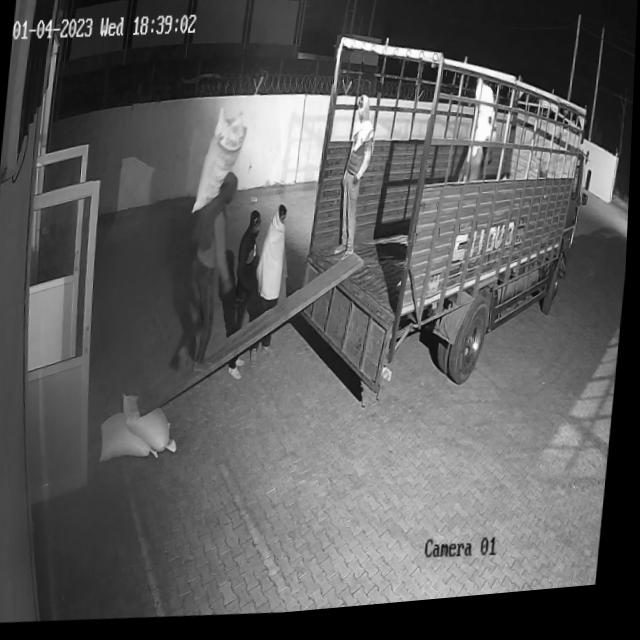sack: (193, 107, 250, 221), (121, 391, 186, 459), (101, 409, 166, 468)
